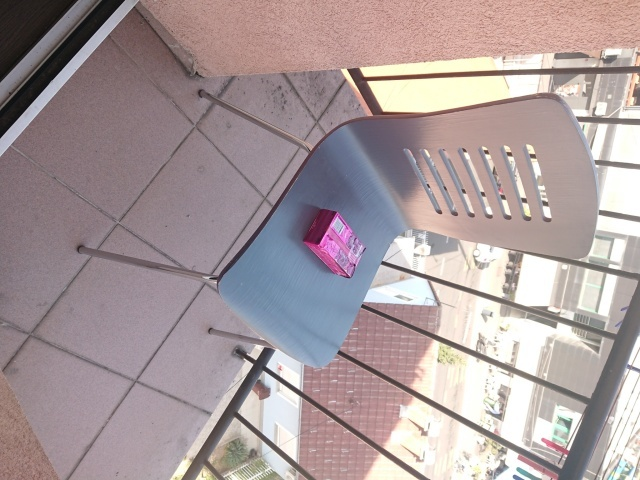Barcaffe Classic Original 225g: (302, 207, 368, 280)
